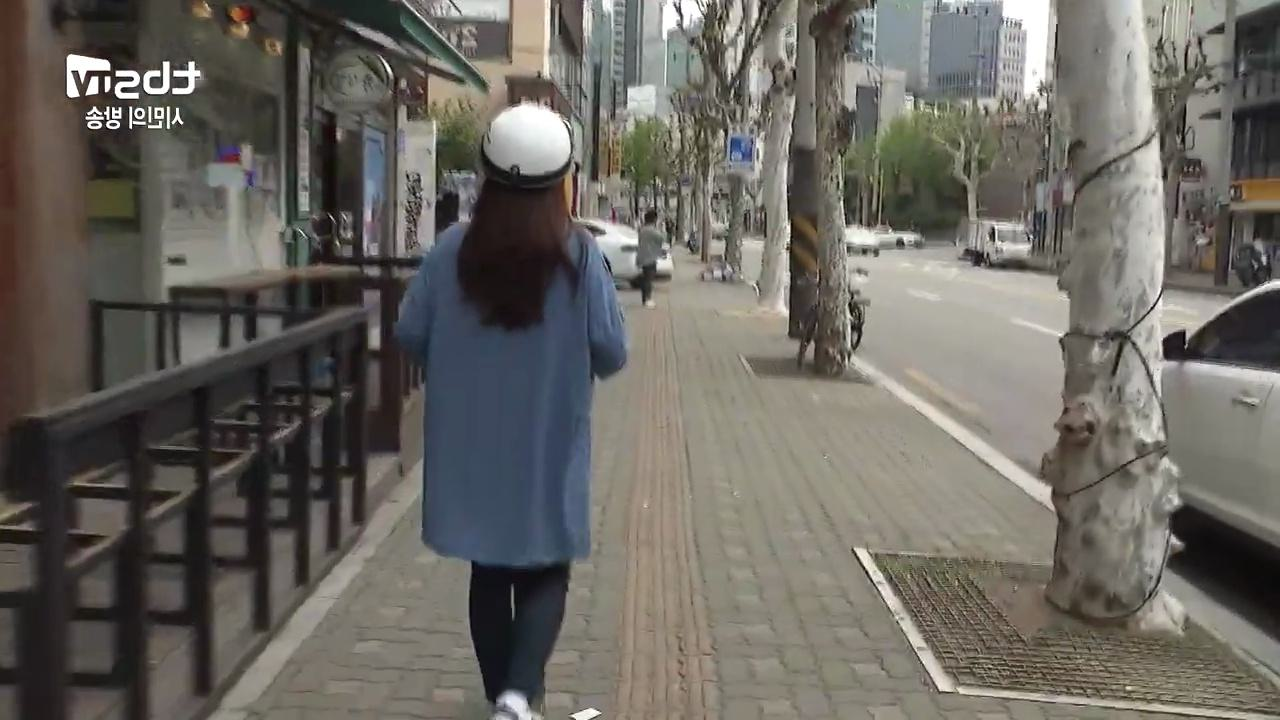helmet: (389, 100, 633, 720)
